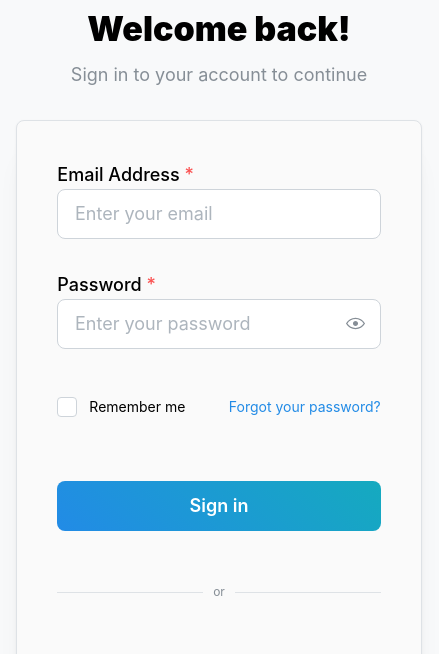
Test: Login Form E2E Tests › should show validation error for invalid email
This screenshot has width=439, height=654.
Enter invalid email
In the field with placeholder "Enter your email": (219, 214) [57,189,380,239], type "invalid-email"
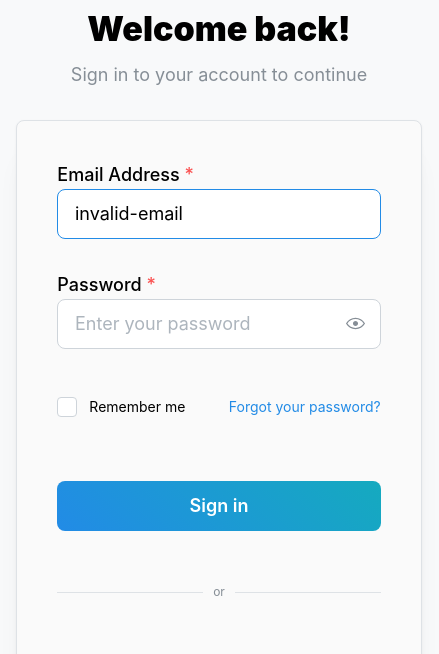
In the password field with placeholder "Enter your password": (219, 324) [58,300,379,348], type "password123"
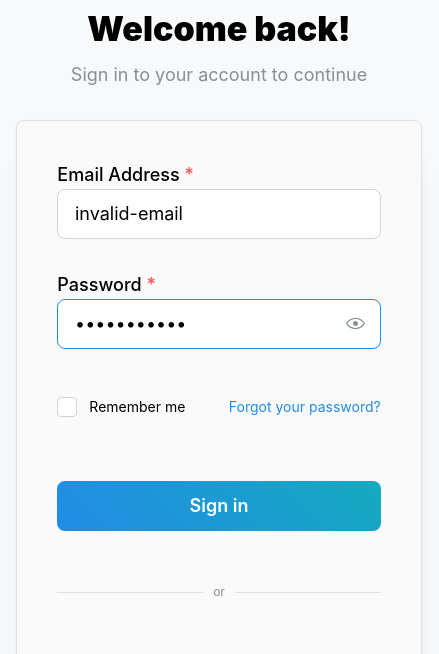
Click the submit button: (219, 506) [57,481,380,531]
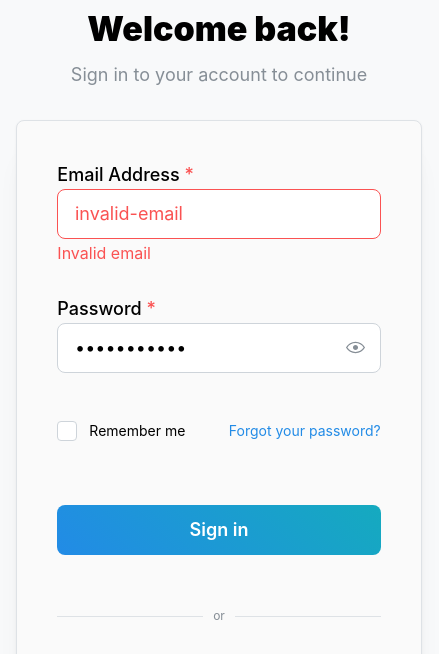
Expected: the text "Invalid email" is shown, [57,243,151,263]
